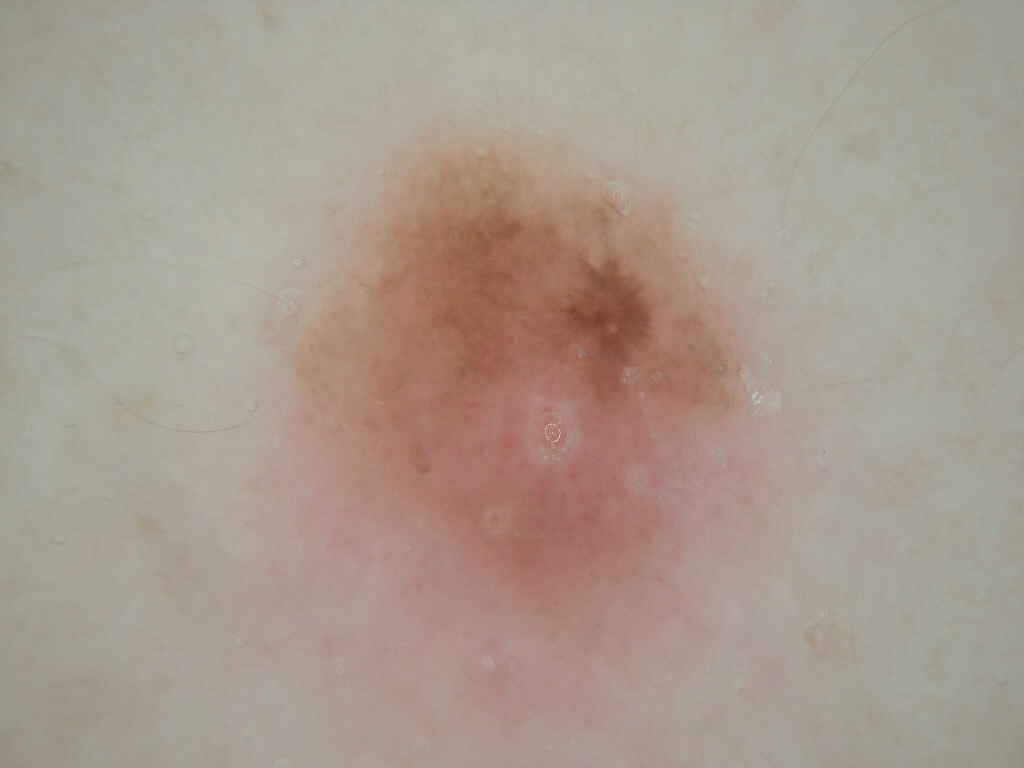Detected Lesion: (298, 155, 780, 620)
